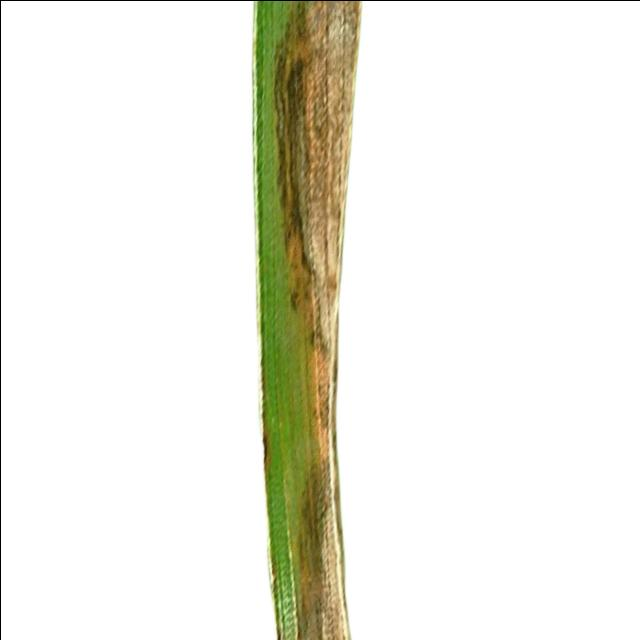Leaf scald: (183, 0, 480, 640)
